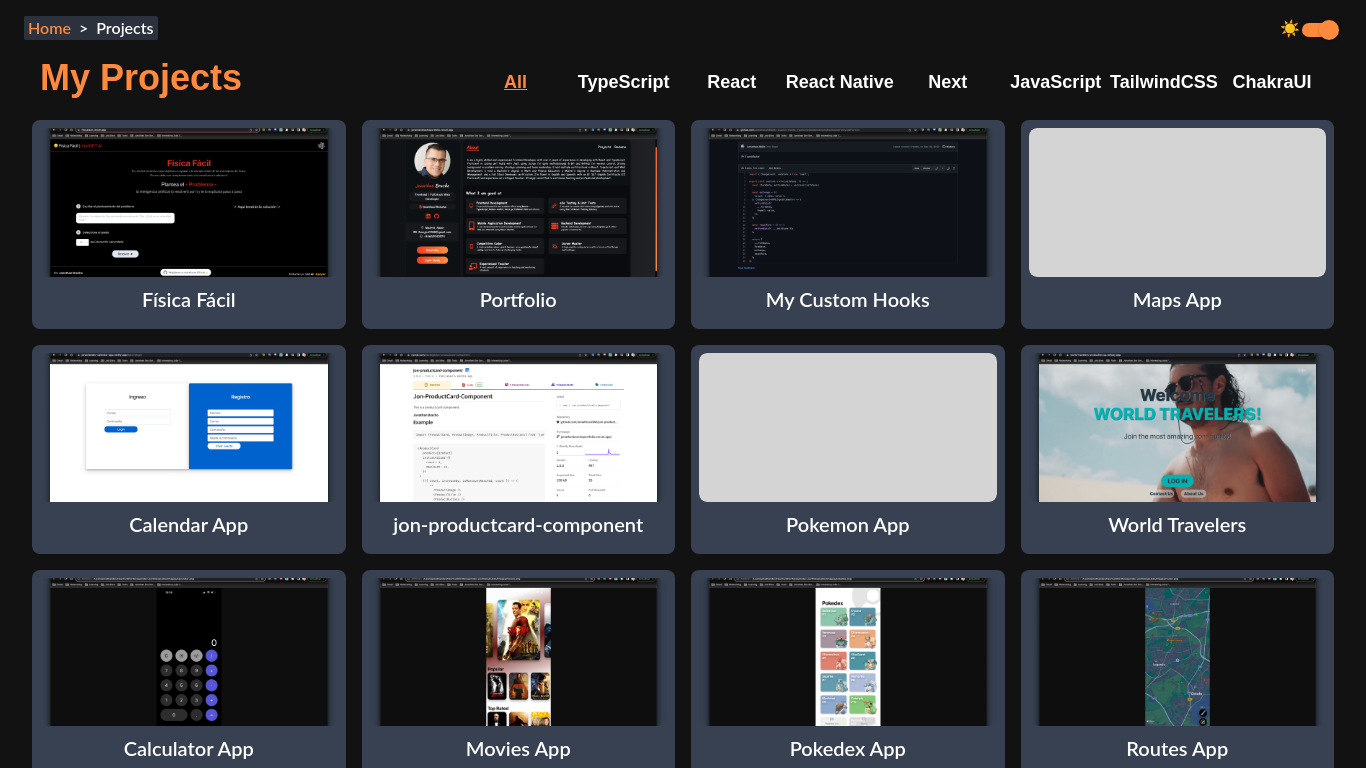
Test case: Projects Page › should display the correct number of projects
The width and height of the screenshot is (1366, 768).
Click the list item "React" at coordinates (732, 82), box [707, 72, 756, 92]
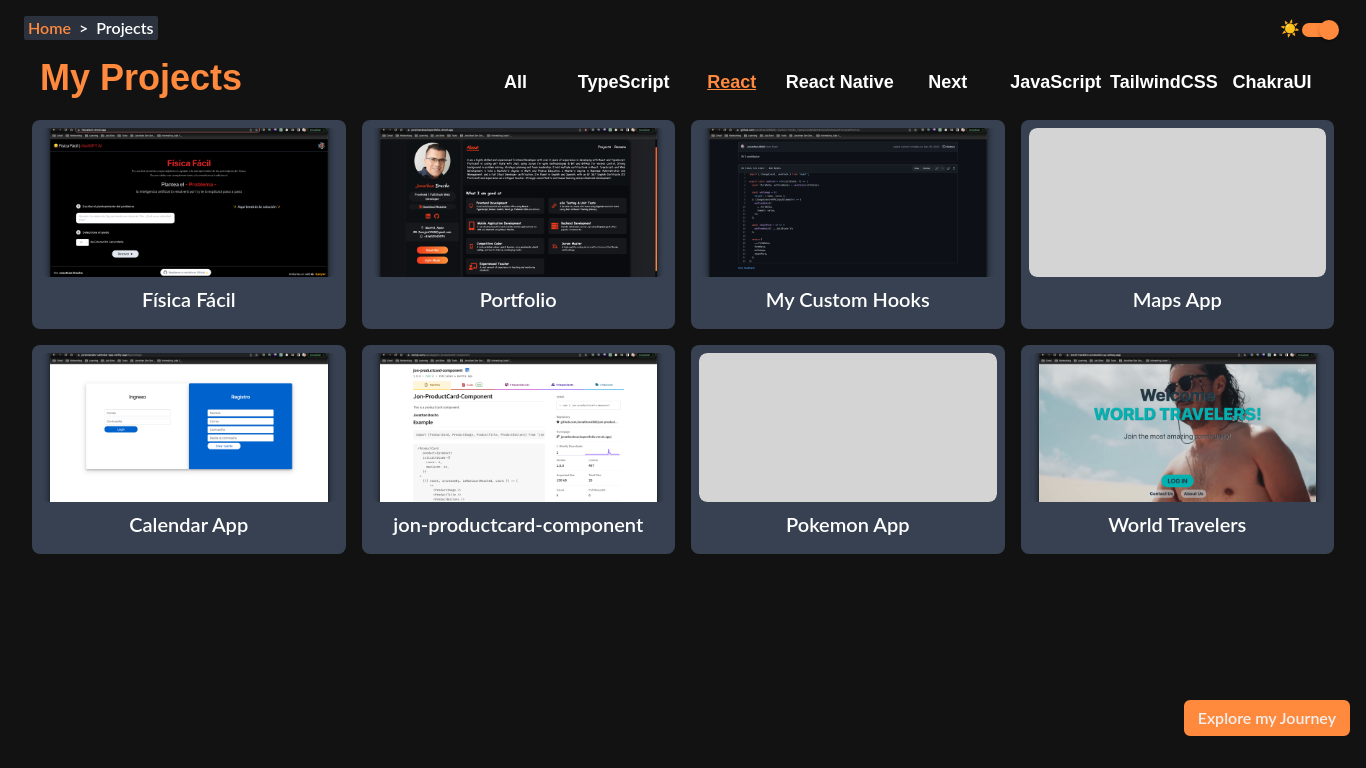
Click the list item "Next" at coordinates (948, 82), box [928, 72, 967, 92]
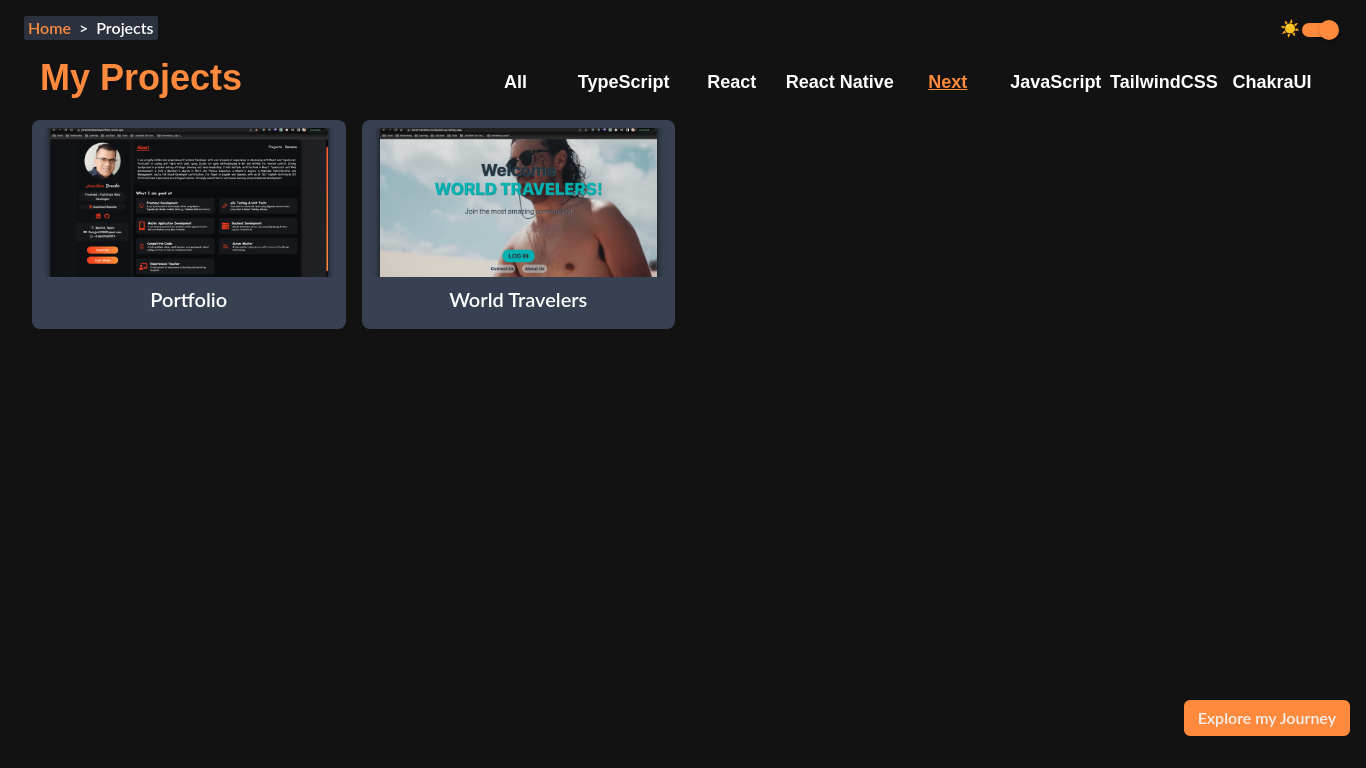
Expected: the number of pictures is 2, [40, 128, 338, 277]; [370, 128, 667, 277]
